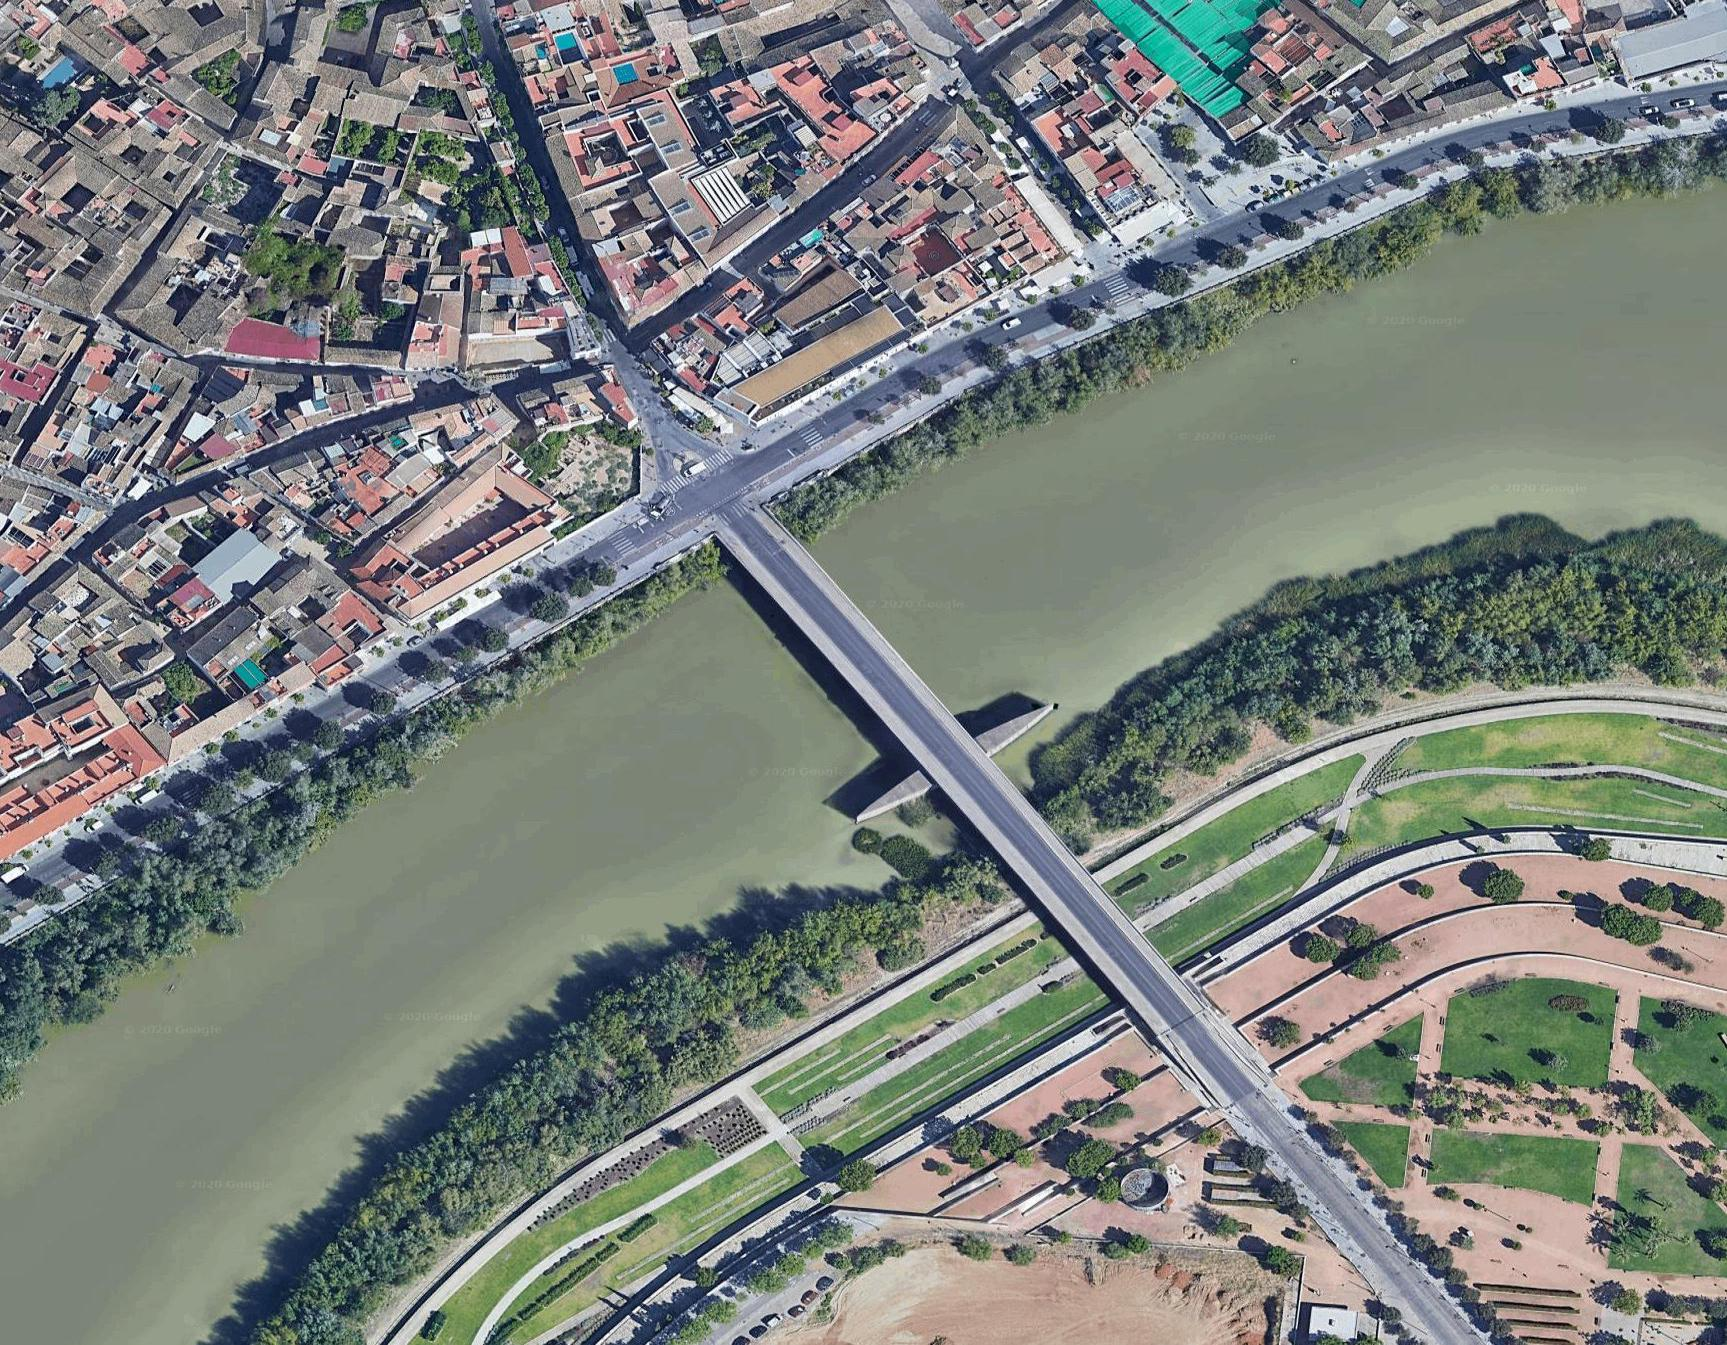bridge: (767, 506, 1187, 1017)
small-vehicle: (649, 494, 671, 518), (1002, 316, 1020, 332)
swimming-pool: (547, 29, 592, 65), (39, 56, 84, 87), (608, 62, 641, 87)
